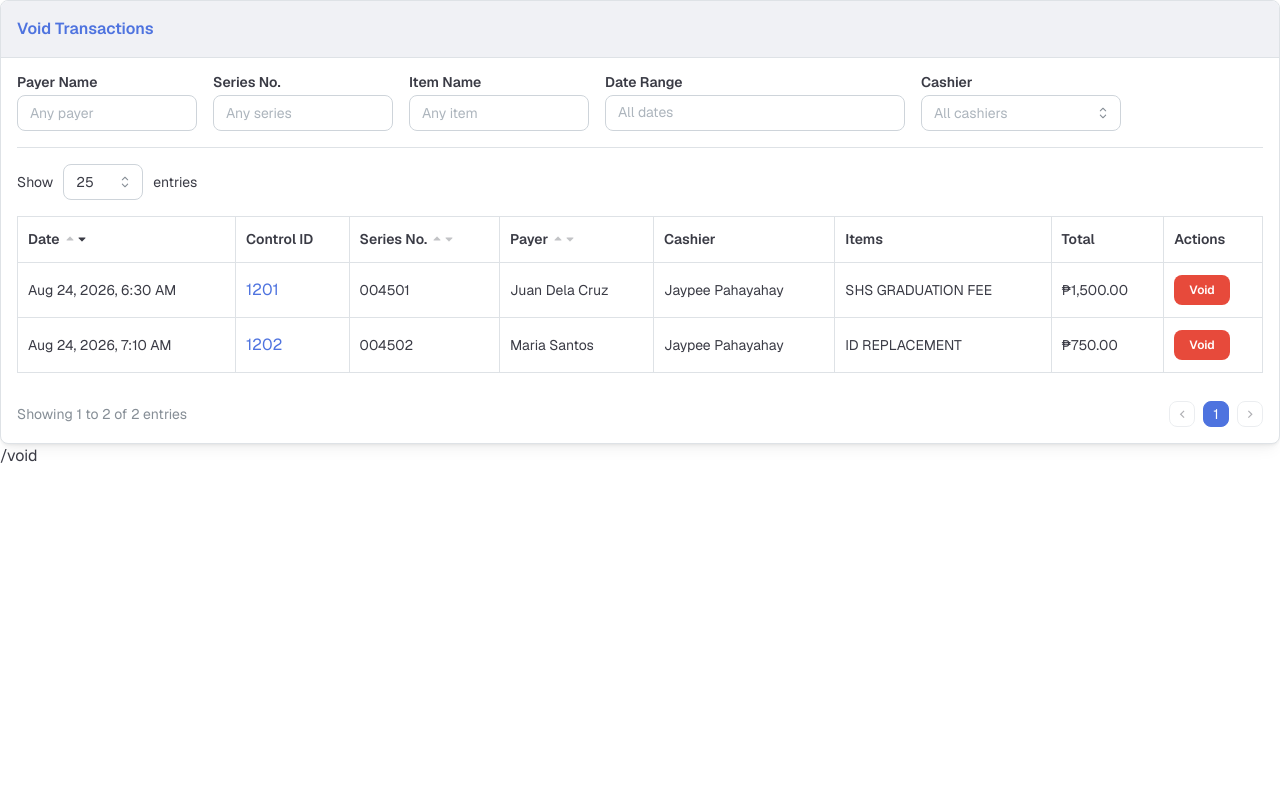
Scenario: VoidTransactionPage › voids nothing when the confirmation is cancelled
The image size is (1280, 800).
Click the button "Void" in the row of "Aug 24, 2026, 6:30 AM": click(1202, 290) [1174,276,1230,306]
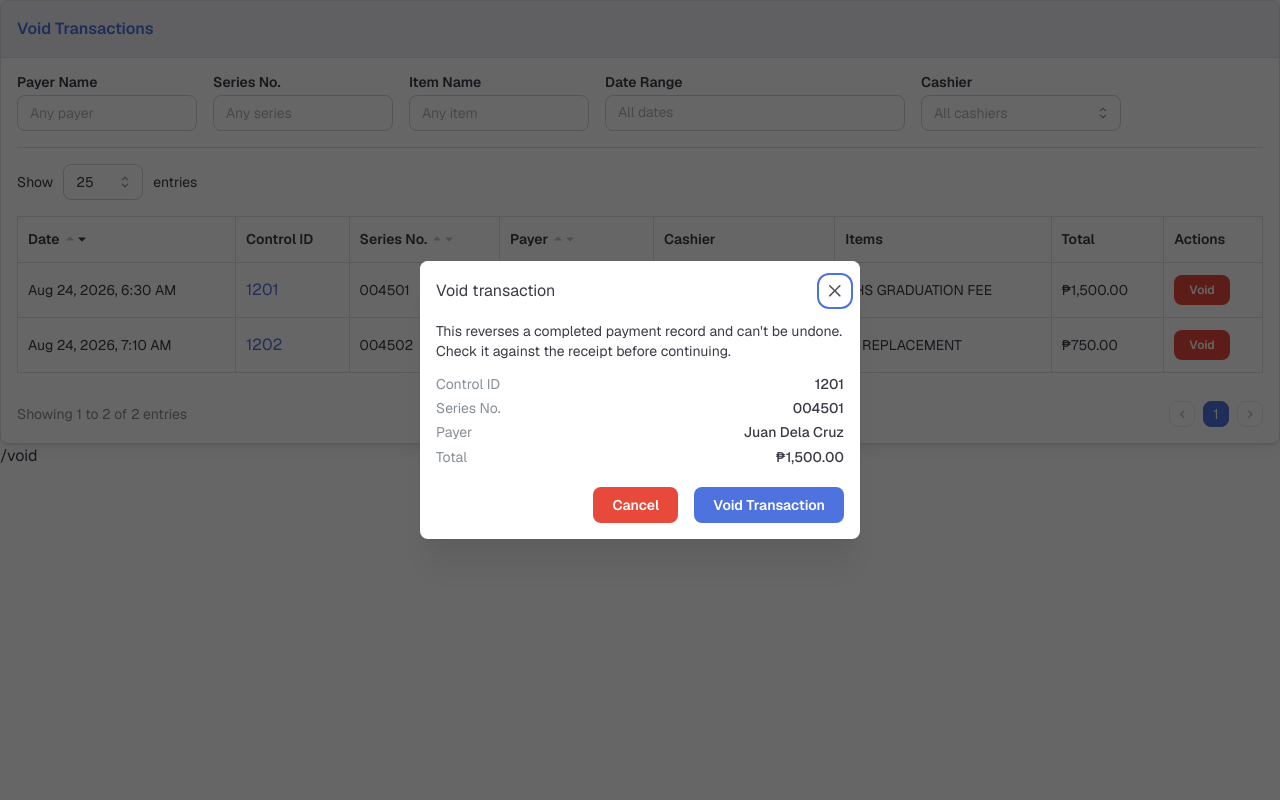
Click the button "Cancel": click(636, 505) [593,487,678,523]
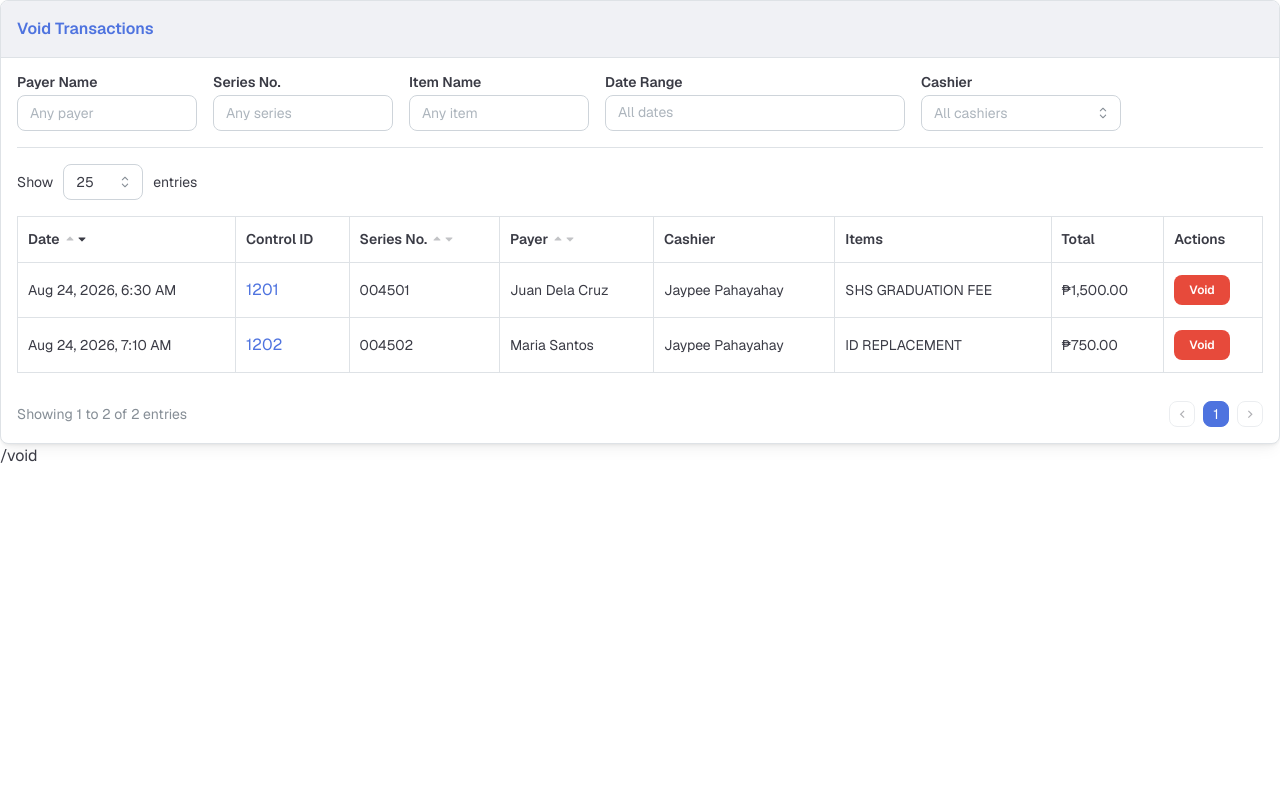
Check: the dialog is gone
